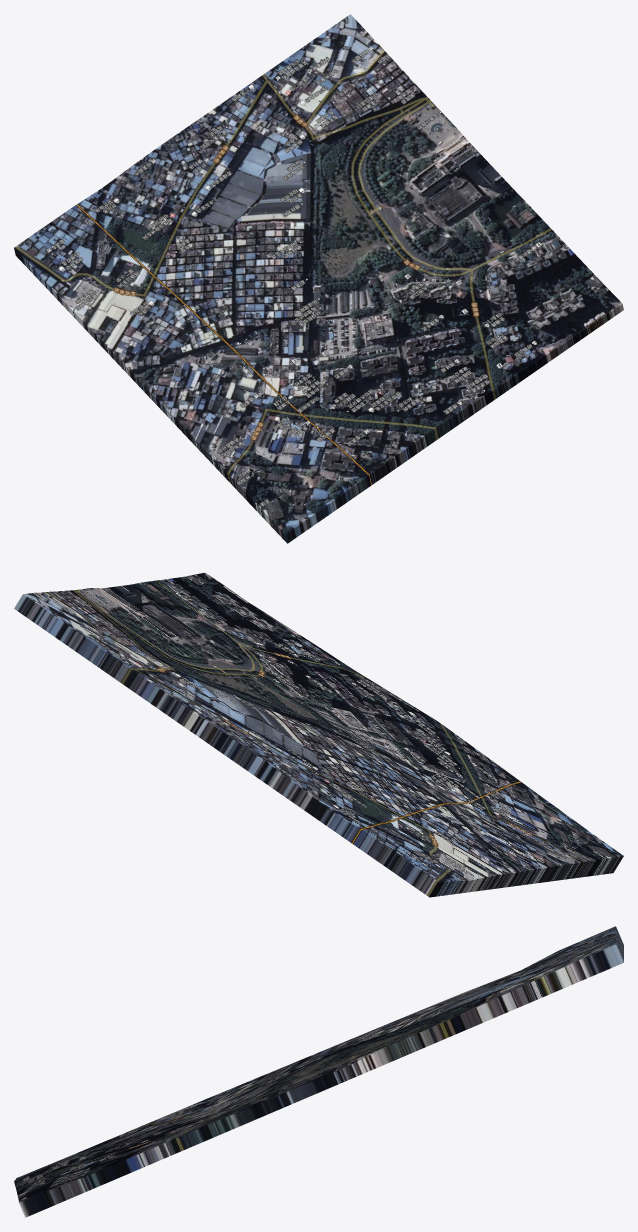
3 renders of one model, top to bottom at view 1: azimuth 30°, elevation 25°; view 2: azimuth 150°, elevation 25°; view 3: azimuth 270°, elevation 25°, orthographic. The views are drawn at different scales.
Parts seen in each view (by area): view 1: 0_17_21; view 2: 0_17_21; view 3: 0_17_21.
Boxes of the visible parts, <box> form: 0_17_21: <box>14,14,623,543</box>; 0_17_21: <box>14,572,623,897</box>; 0_17_21: <box>14,926,623,1217</box>.
Size of the model in its own units: 599 by 443 by 552.
Materials: 1 (1 with a texture image).
